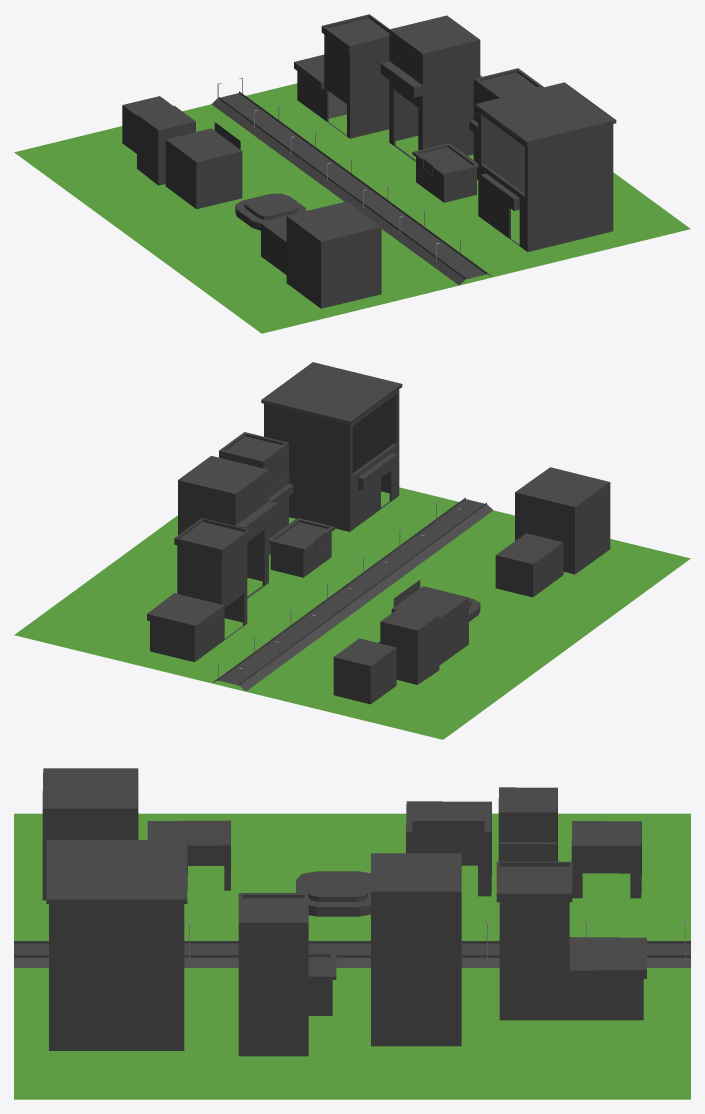
3 renders of one model, top to bottom at view 1: azimuth 30°, elevation 25°; view 2: azimuth 150°, elevation 25°; view 3: azimuth 270°, elevation 25°, orthographic. The views are drawn at different scales.
Visible parts, largest first — view 1: Plane.001; view 2: Plane.001; view 3: Plane.001.
Boxes of the visible parts, <box> form: Plane.001: <box>14,14,690,333</box>; Plane.001: <box>14,362,690,739</box>; Plane.001: <box>14,768,690,1099</box>.
Bounding box in the file's own units: 20000 × 5269 × 20000.
